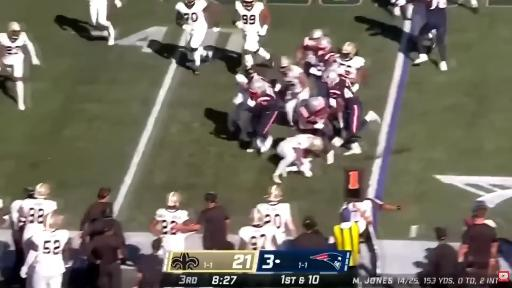Helmet: (249, 76, 267, 97), (44, 212, 64, 229), (265, 185, 282, 202), (308, 97, 326, 112), (341, 42, 357, 58), (323, 70, 339, 86), (34, 183, 50, 198), (250, 208, 264, 225), (308, 137, 323, 152), (167, 192, 181, 206), (280, 56, 291, 71), (318, 37, 331, 49), (309, 29, 323, 40), (242, 0, 255, 10), (8, 22, 20, 31), (184, 0, 195, 5)
Jersey: (31, 230, 69, 275), (19, 199, 57, 233), (258, 202, 291, 232), (235, 1, 264, 34), (239, 226, 278, 250), (155, 209, 189, 235), (175, 0, 207, 27), (248, 76, 275, 105), (337, 56, 365, 82), (0, 32, 28, 57), (279, 132, 313, 150), (283, 65, 303, 93), (329, 78, 354, 99), (315, 51, 338, 72), (303, 37, 318, 63), (427, 0, 447, 10)
Player: (324, 71, 380, 154), (20, 213, 70, 287), (0, 22, 40, 110), (239, 69, 279, 153), (175, 0, 217, 74), (19, 183, 57, 253), (234, 0, 273, 67), (273, 135, 323, 183), (150, 192, 189, 253), (257, 185, 296, 245), (275, 57, 309, 125), (414, 0, 447, 70), (297, 96, 342, 146), (309, 37, 338, 98), (239, 209, 278, 250), (228, 74, 250, 141), (336, 42, 365, 91), (296, 29, 323, 73), (90, 0, 115, 45)
